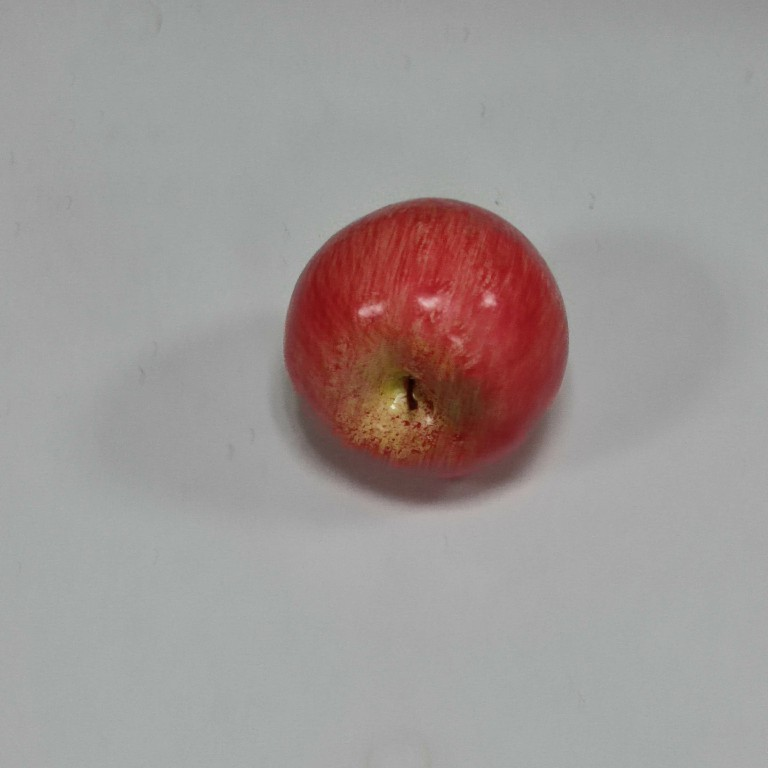fruit_apple: (280, 194, 576, 485)
